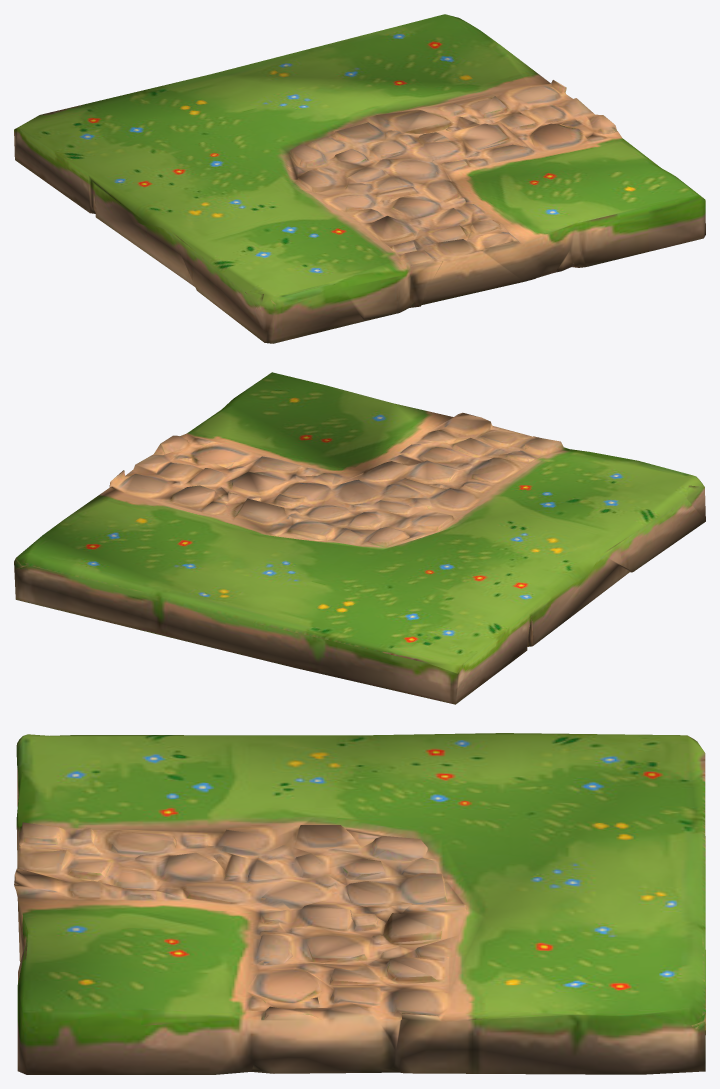
File: path-curve.glb
The picture shows the model from 3 angles, top to bottom: view 1: azimuth 30°, elevation 25°; view 2: azimuth 150°, elevation 25°; view 3: azimuth 270°, elevation 25°; orthographic projection. The views are drawn at different scales.
Visible parts, largest first — view 1: Mesh1.0; view 2: Mesh1.0; view 3: Mesh1.0.
Part boxes in pixels (bbox=[...]): Mesh1.0: bbox=[14, 14, 705, 343]; Mesh1.0: bbox=[14, 372, 705, 704]; Mesh1.0: bbox=[14, 733, 705, 1074].
Size of the model in its own units: 1.89 by 0.1842 by 1.89.
1 material, 1 textured.
